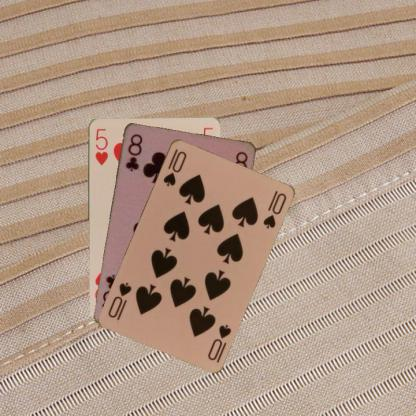10s: (204, 321, 233, 362), (160, 146, 188, 188)
5h: (92, 126, 110, 166)
8c: (122, 130, 144, 172)
